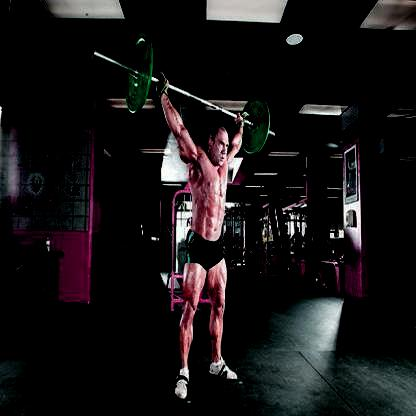Barbell: (88, 48, 99, 64)
